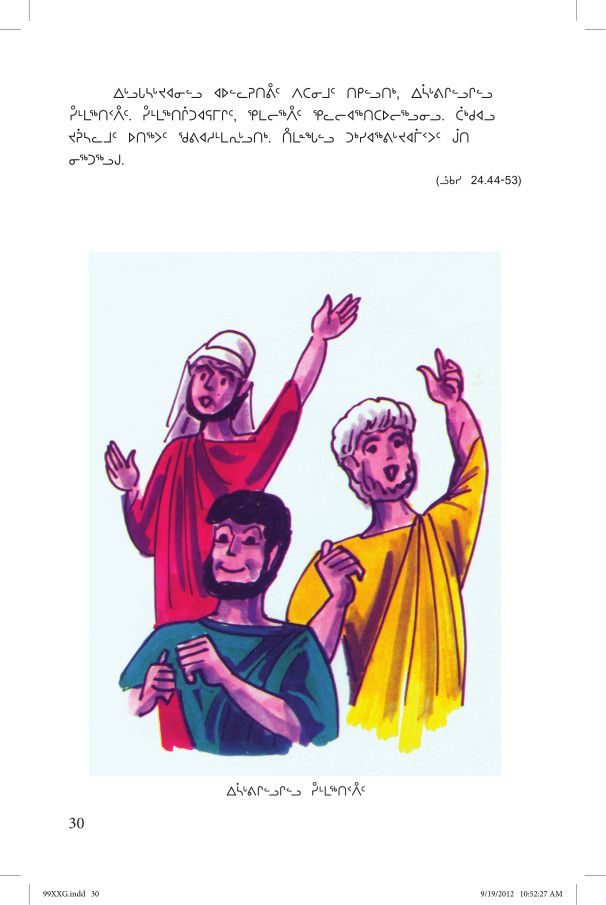inuktitut: (59, 77, 504, 172), (221, 775, 376, 802)
